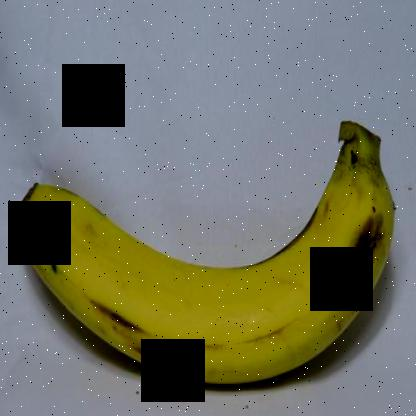freshripe: (4, 114, 404, 408)
